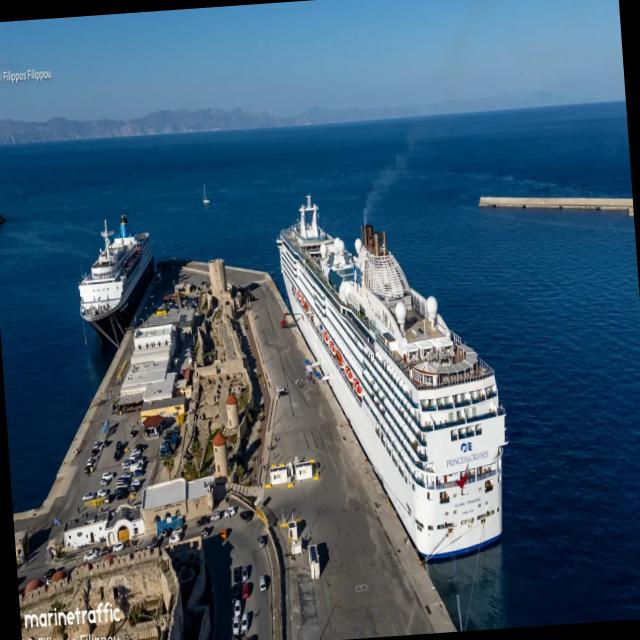Cruise: (277, 195, 505, 559), (78, 214, 154, 346)
